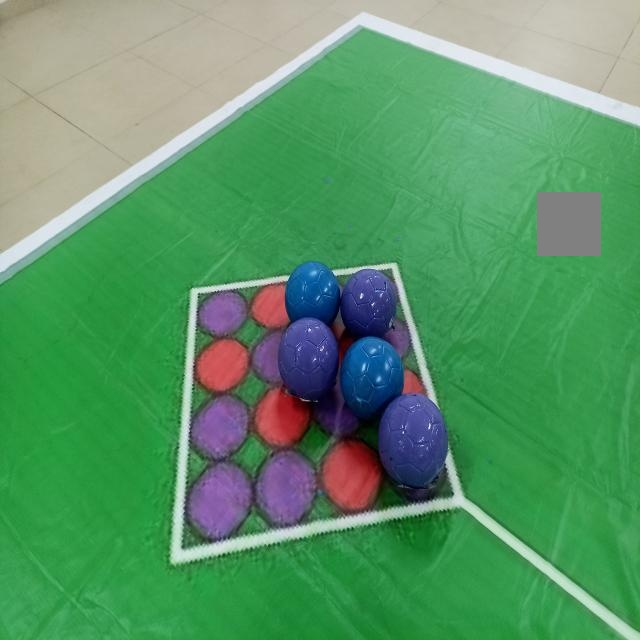blue_ball: (346, 338, 404, 417), (286, 261, 341, 320)
purple_ball: (378, 398, 449, 488), (278, 320, 338, 397), (342, 268, 396, 338)
